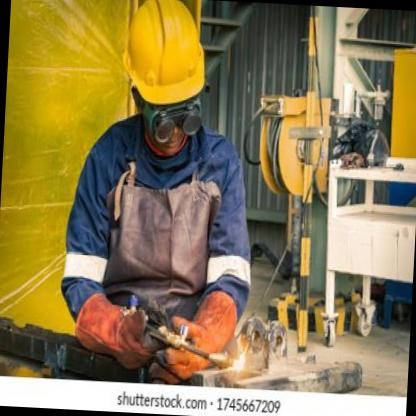Gloves: (148, 287, 238, 388), (73, 288, 172, 372)
